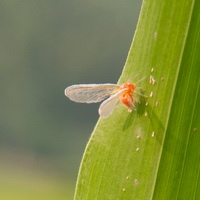insect: (65, 81, 146, 117)
